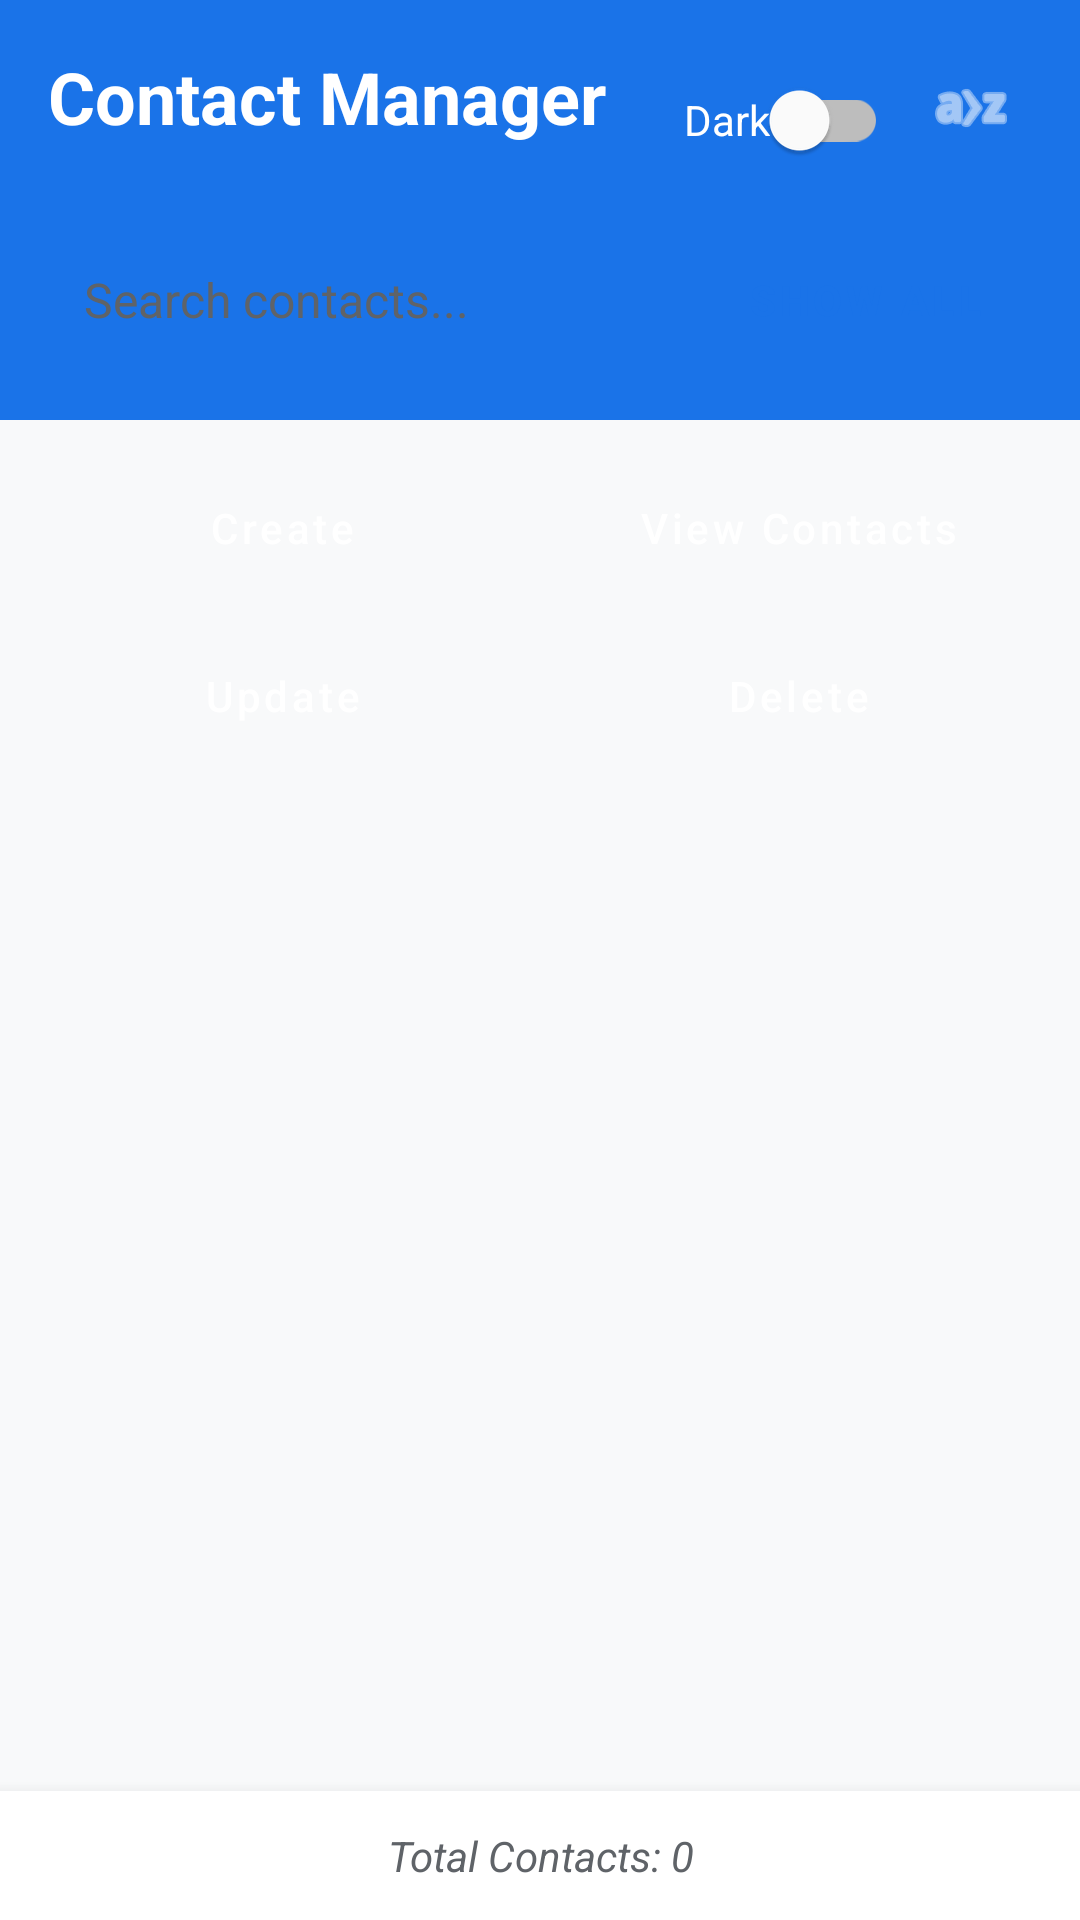

Icon click points for this 1080px×1920px phone screenshot, format (x,y):
sort alphabetically: (971,108)
